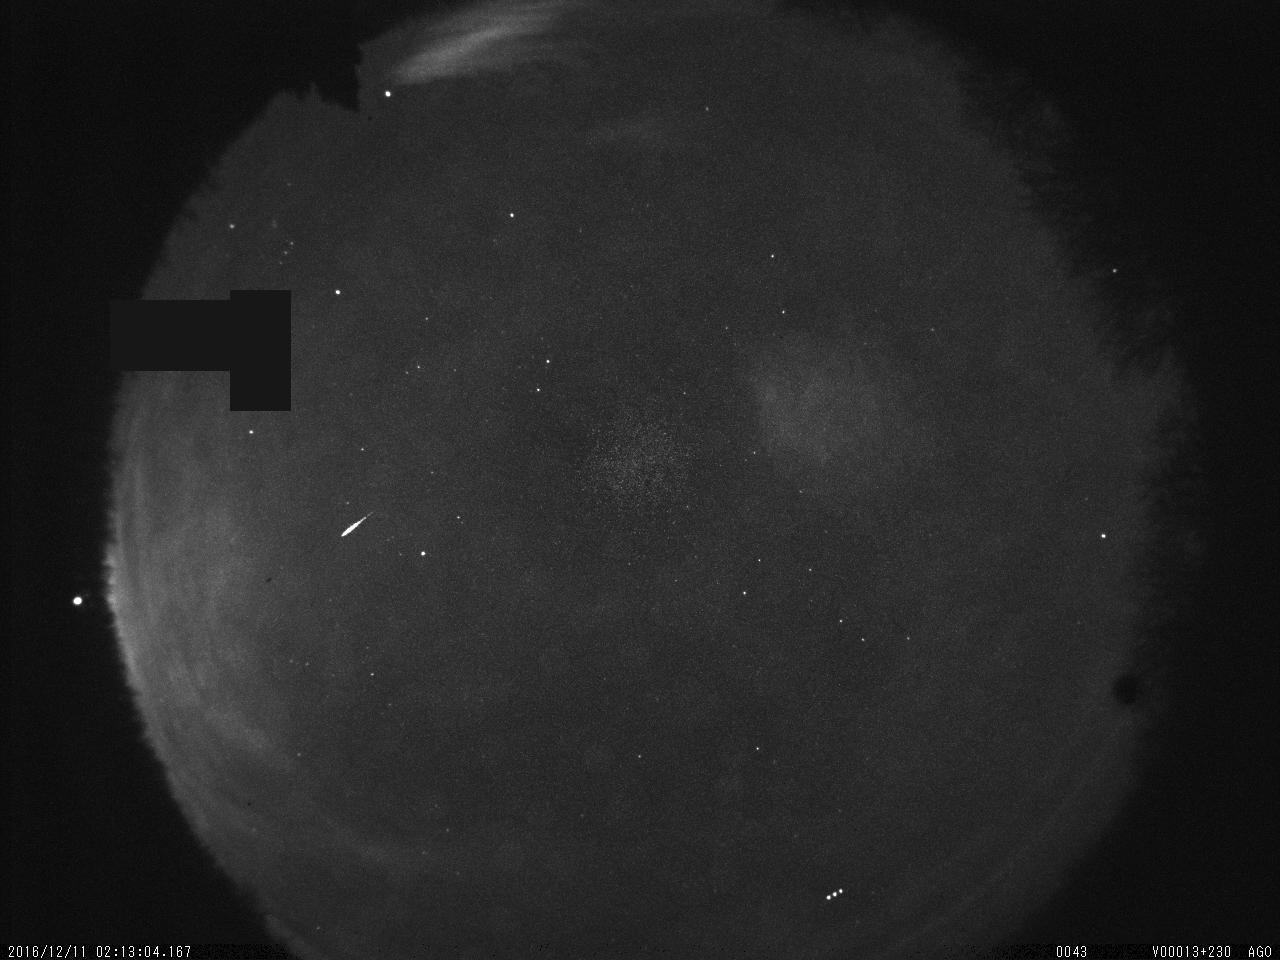meteor: (332, 504, 387, 548)
